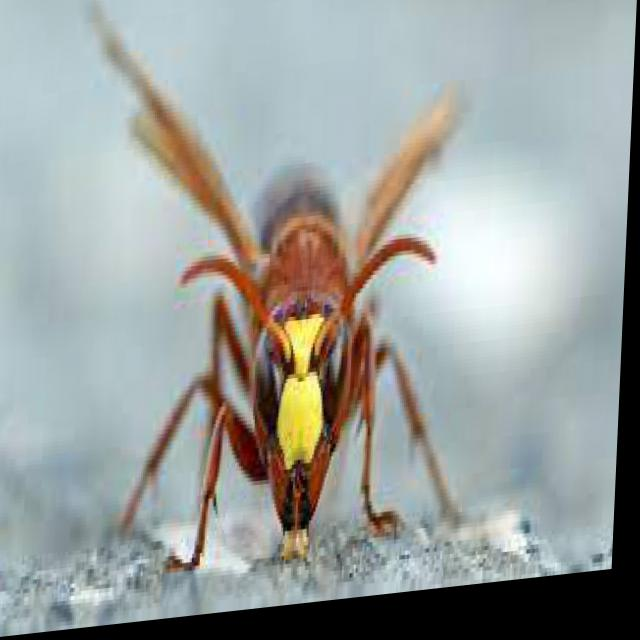Vespa Orientalis: (60, 0, 514, 607)
